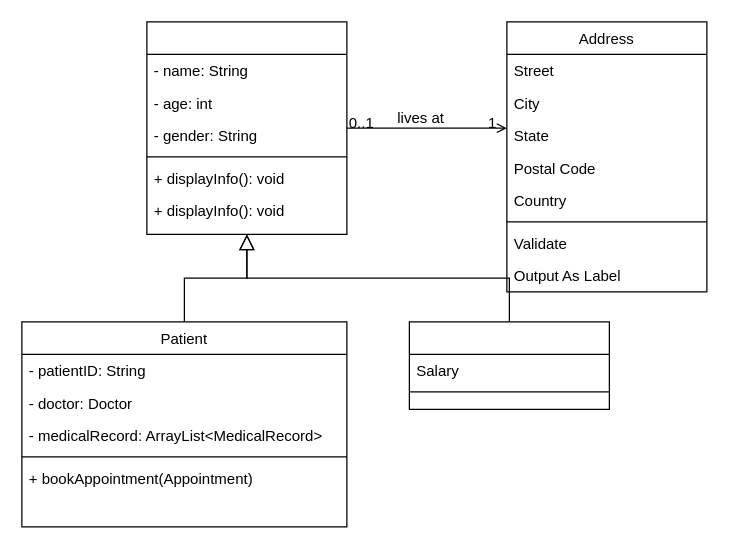
The diagram is 729 pixels wide and 549 high, and some of its shapes have lost their labels. The shapes that lost their labels are listed below. From the top down, each one's box as (x1, y1, x2, y2) in pixels, then its label:
(146, 21, 347, 234): Person
(408, 321, 609, 409): Doctor
